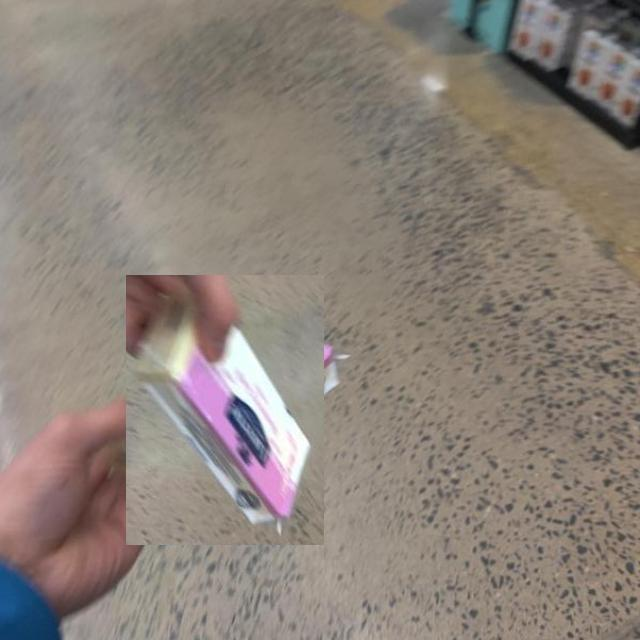Cheese: (126, 276, 324, 545)
